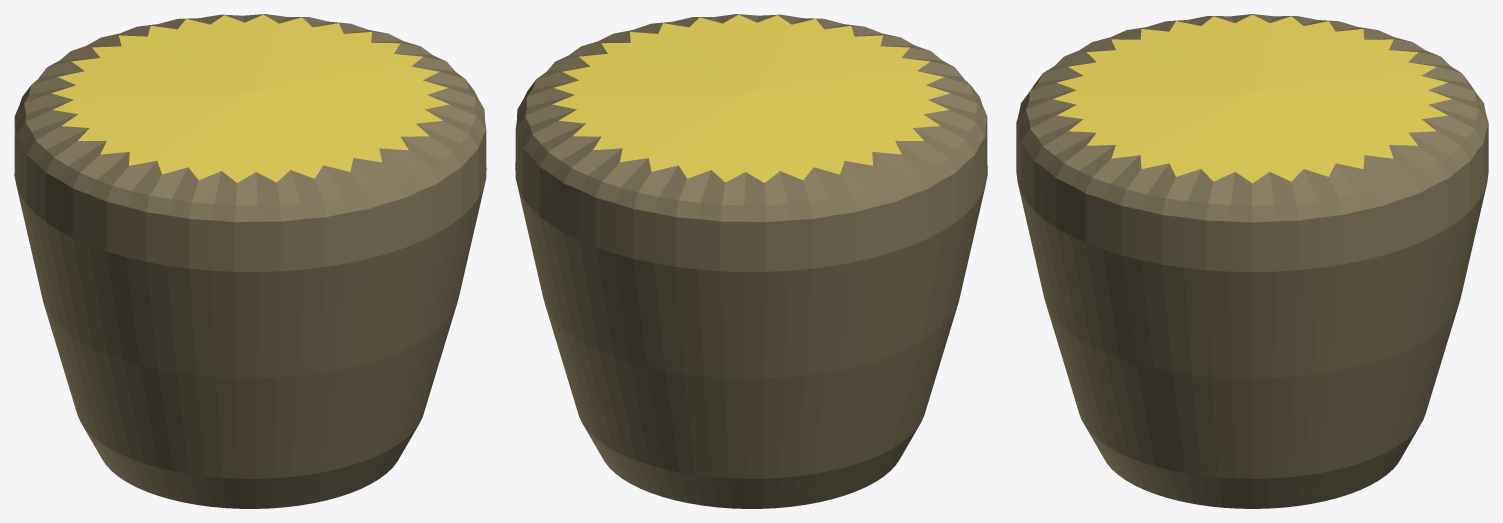
File: Drum.fbx
The picture shows the model from 3 angles, left to right: view 1: azimuth 30°, elevation 25°; view 2: azimuth 150°, elevation 25°; view 3: azimuth 270°, elevation 25°; orthographic projection.
Visible parts, largest first — view 1: Цилиндр; view 2: Цилиндр; view 3: Цилиндр.
Part boxes in pixels (<box>): Цилиндр: <box>14,14,486,508</box>; Цилиндр: <box>515,14,987,508</box>; Цилиндр: <box>1016,14,1488,508</box>.
Size of the model in its own units: 247 by 204 by 247.
